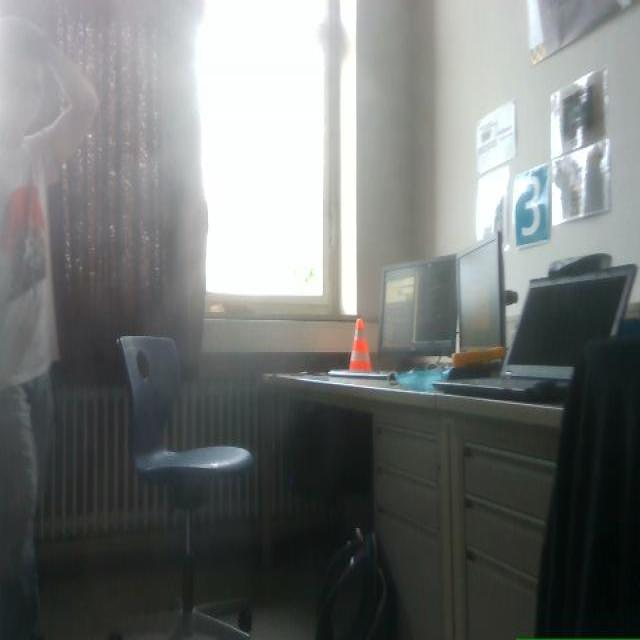humans: (0, 17, 98, 639)
objects: (118, 336, 253, 639), (536, 338, 639, 637), (434, 266, 636, 401), (503, 266, 636, 381), (443, 234, 517, 379), (315, 530, 395, 639), (283, 403, 371, 498), (378, 255, 456, 361), (456, 234, 506, 353), (412, 255, 456, 357), (328, 318, 387, 379), (448, 376, 568, 403), (328, 364, 450, 390), (444, 348, 505, 381), (548, 254, 611, 277), (396, 366, 450, 391), (452, 346, 505, 369), (349, 318, 371, 371), (327, 370, 393, 379), (617, 315, 639, 338), (504, 290, 518, 306)
